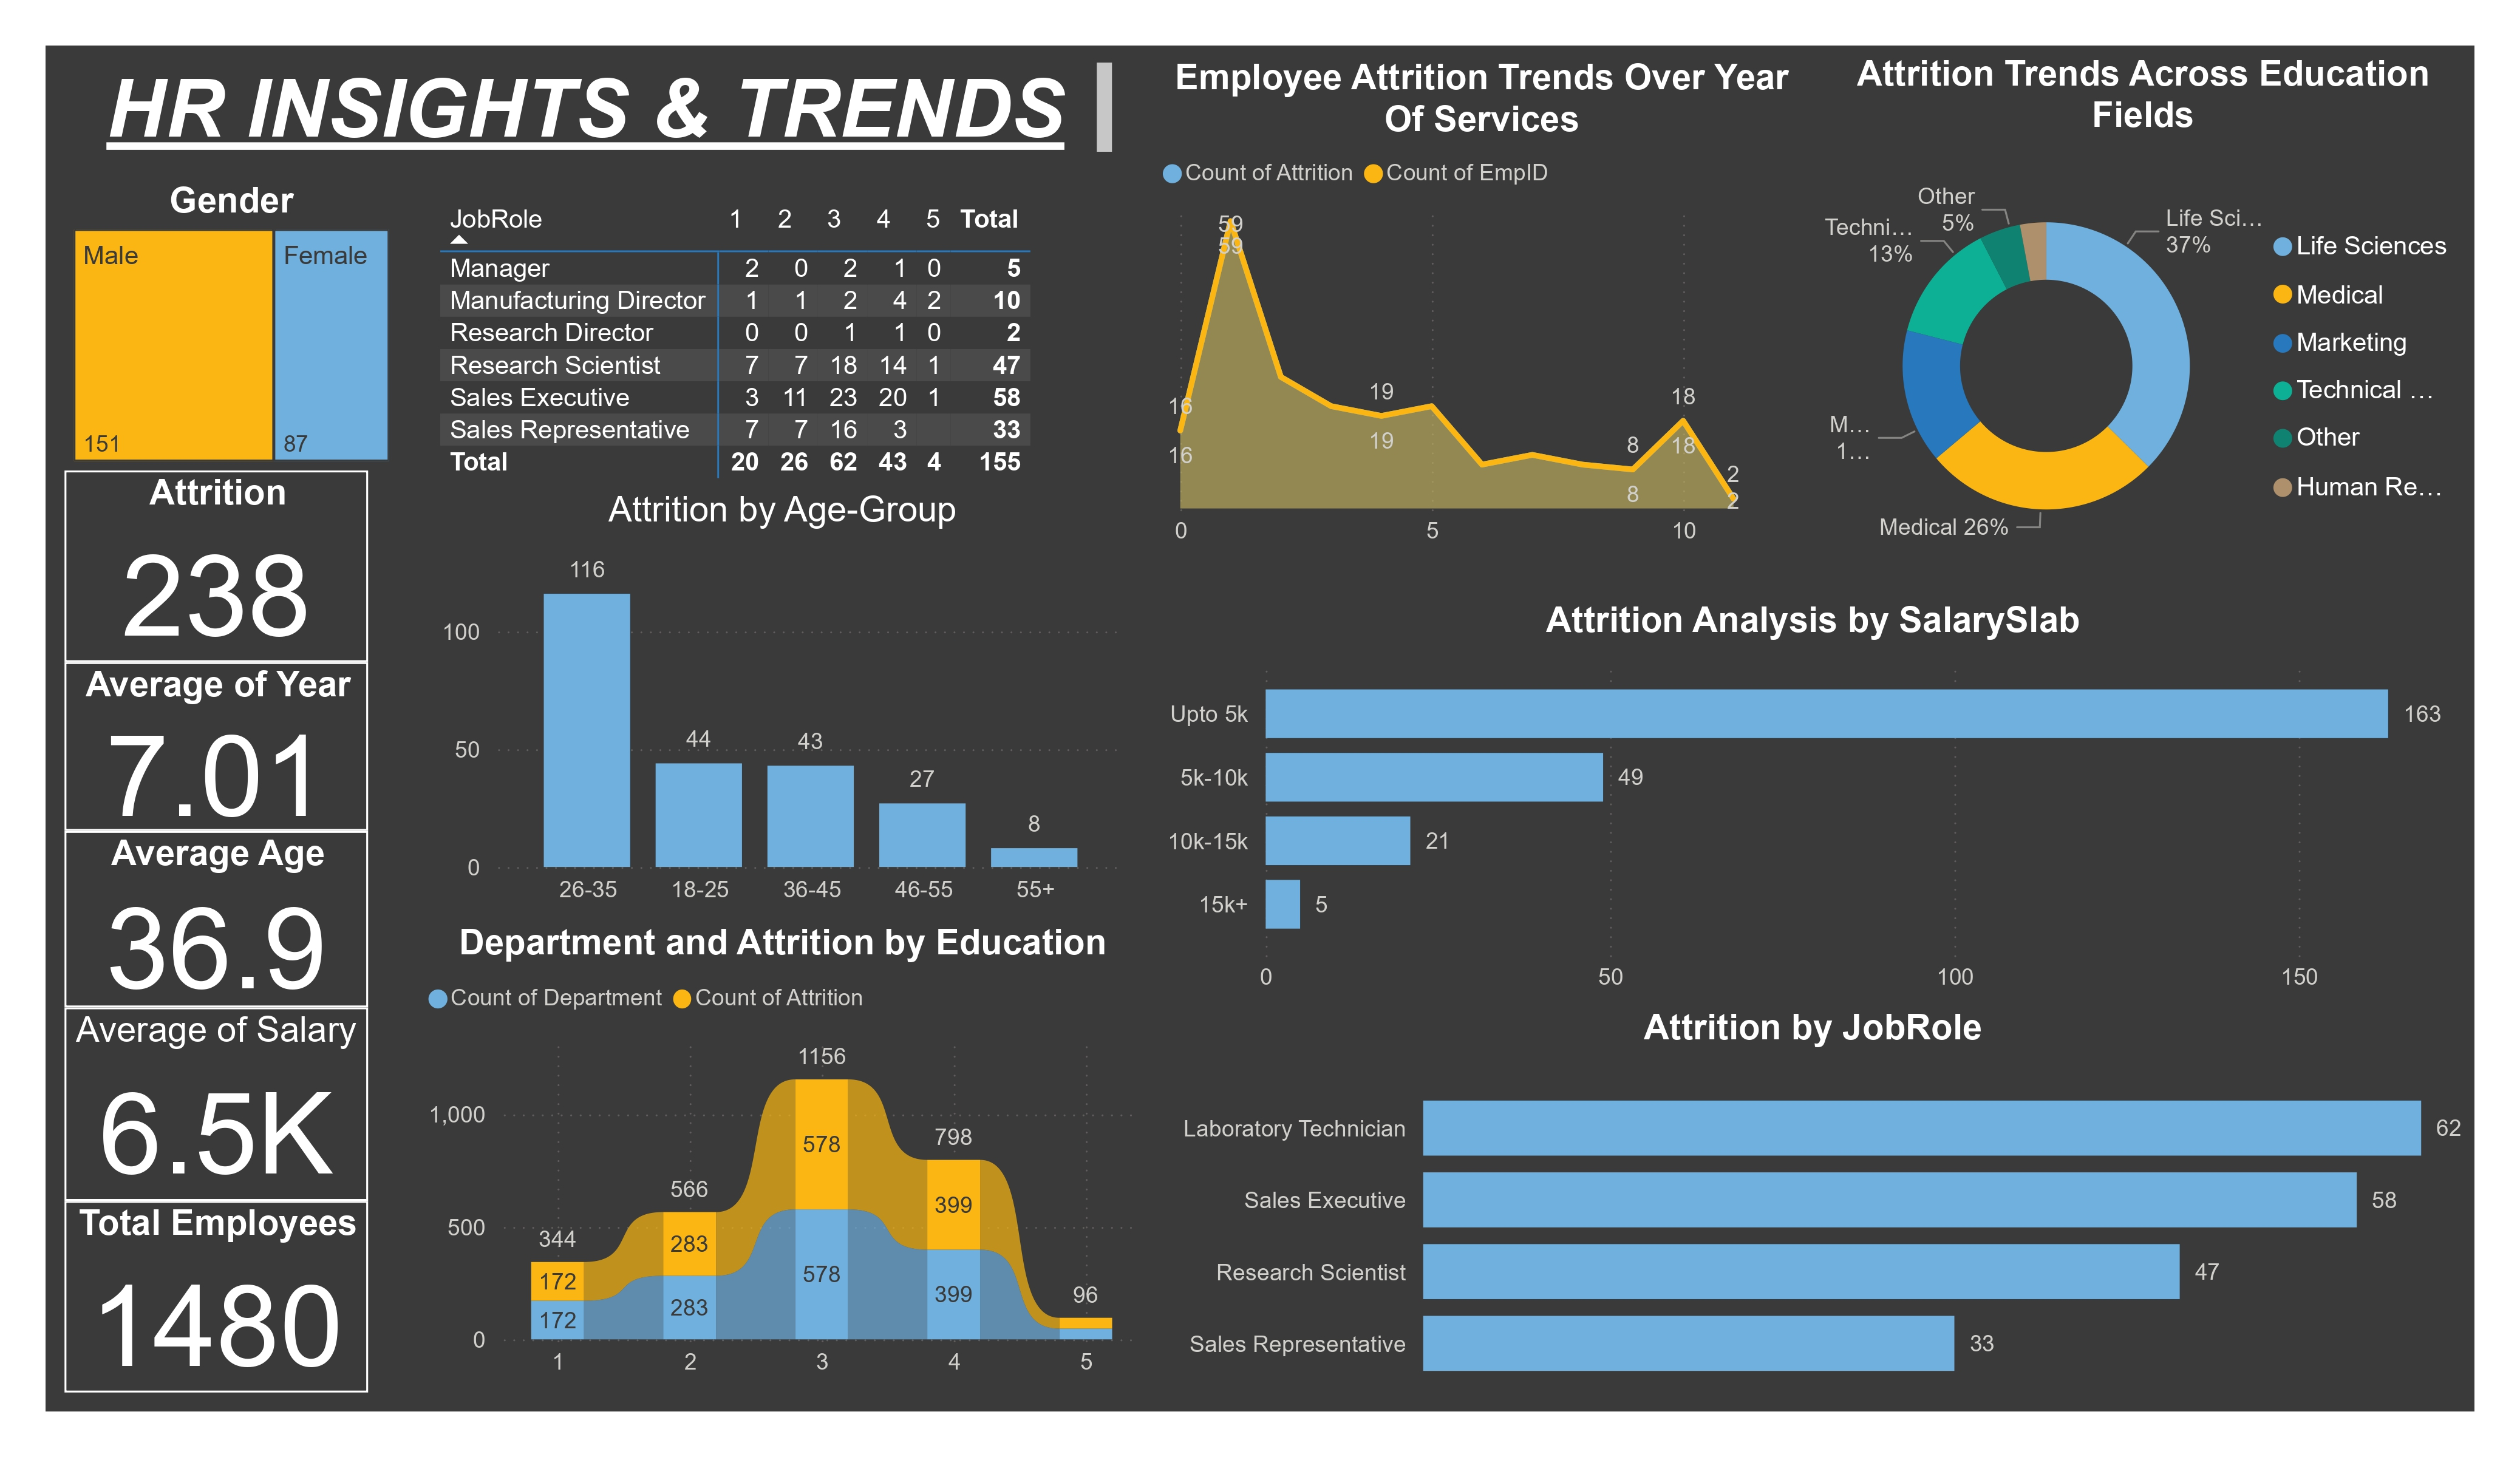

What the dashboard file says about the page in this screenshot:
{"tool":"powerbi","page":{"name":"Page 1","canvas":[1280,720],"ordinal":0},"visuals":[{"type":"donutChart","title":"Attrition Trends Across Education Fields","fields":{"Y":["CountNonNull(HR_Analytics.Attrition)"],"Category":["HR_Analytics.EducationField"]},"box":[931.2,4.3,348.7,287.7],"z":0},{"type":"columnChart","title":"Attrition by Age-Group","fields":{"Category":["HR_Analytics.AgeGroup"],"Y":["CountNonNull(HR_Analytics.Attrition)"]},"box":[202.7,233.9,371.3,226.8],"z":1000},{"type":"barChart","title":"Attrition Analysis by SalarySlab","fields":{"Y":["CountNonNull(HR_Analytics.Attrition)"],"Category":["HR_Analytics.SalarySlab"]},"box":[582.5,292,697.3,215.4],"z":2000},{"type":"areaChart","title":"Employee Attrition Trends Over  Year Of Services","fields":{"Category":["HR_Analytics.YearsAtCompany"],"Y":["CountNonNull(HR_Analytics.Attrition)"],"Y2":["CountNonNull(HR_Analytics.EmpID)"]},"box":[582.5,5.7,348.7,266.5],"z":3000},{"type":"clusteredBarChart","title":"Attrition by JobRole","fields":{"Category":["HR_Analytics.JobRole"],"Y":["CountNonNull(HR_Analytics.Attrition)"]},"box":[582.5,507.4,697.3,212.6],"z":4000},{"type":"ribbonChart","title":"Department and Attrition by Education","fields":{"Category":["HR_Analytics.Education"],"Y":["CountNonNull(HR_Analytics.Department)","CountNonNull(HR_Analytics.Attrition)"]},"box":[195.6,462,385.5,248],"z":5000},{"type":"card","title":"Total Employees","fields":{"Values":["Sum(HR_Analytics.EmployeeCount)"]},"box":[9.9,609.4,160.2,100.6],"z":6000},{"type":"card","title":"Attrition","fields":{"Values":["CountNonNull(HR_Analytics.Attrition)"]},"box":[9.9,223.9,160.2,100.6],"z":7000},{"type":"card","title":"Average Age","fields":{"Values":["Avg(HR_Analytics.Age)"]},"box":[9.9,413.9,160.2,93.5],"z":8000},{"type":"card","title":"Average of Salary","fields":{"Values":["Avg(HR_Analytics.MonthlyIncome)"]},"box":[9.9,507.4,160.2,102],"z":9000},{"type":"card","title":"Average of Year","fields":{"Values":["Avg(HR_Analytics.YearsAtCompany)"]},"box":[9.9,324.6,160.2,89.3],"z":10000},{"type":"treemap","title":"Gender","fields":{"Values":["CountNonNull(HR_Analytics.Attrition)"],"Details":["HR_Analytics.Gender"]},"box":[9.9,70.9,175.7,153.1],"z":11000},{"type":"textbox","box":[9.9,4.3,557,58.1],"z":13000},{"type":"pivotTable","fields":{"Rows":["HR_Analytics.JobRole"],"Columns":["HR_Analytics.Education"],"Values":["Sum(HR_Analytics.Attration count)"]},"box":[202.7,78,371.3,155.9],"z":13001}]}

Visuals, with their boxes in screenshot pixels (x1, y1, x2, y2):
"Attrition Trends Across Education Fields" donutChart: 1813/53/2474/600
"Attrition by Age-Group" columnChart: 430/489/1135/920
"Attrition Analysis by SalarySlab" barChart: 1151/600/2474/1008
"Employee Attrition Trends Over  Year Of Services" areaChart: 1151/56/1813/562
"Attrition by JobRole" clusteredBarChart: 1151/1008/2474/1411
"Department and Attrition by Education" ribbonChart: 417/922/1148/1393
"Total Employees" card: 64/1201/369/1393
"Attrition" card: 64/470/369/661
"Average Age" card: 64/830/369/1008
"Average of Salary" card: 64/1008/369/1201
"Average of Year" card: 64/661/369/830
"Gender" treemap: 64/180/398/470
textbox: 64/53/1122/164
pivotTable - HR_Analytics.JobRole x HR_Analytics.Education: 430/194/1135/489
